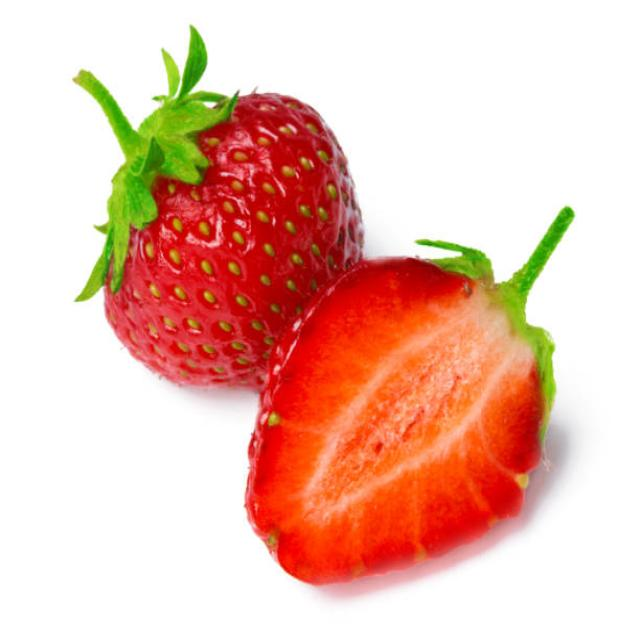Healthy Fruit: (241, 258, 548, 583), (105, 92, 364, 395)
